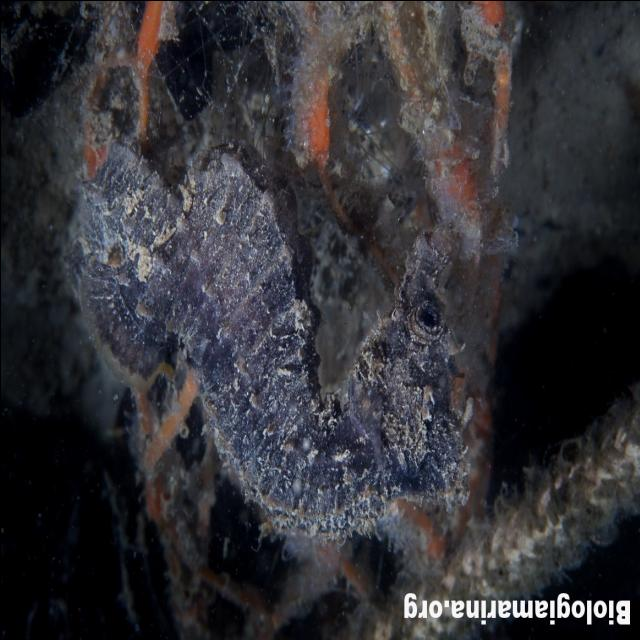Hippo: (334, 232, 472, 511)
